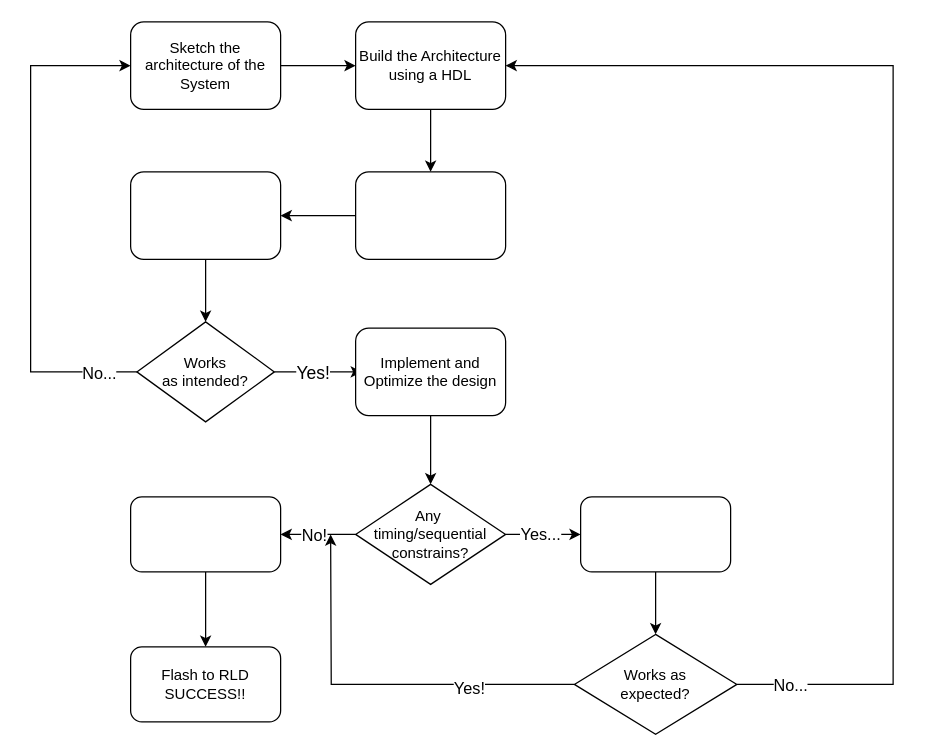
Some shapes in this 925 by 756 pixel diagram are drawn without their labels. Each missing label, with the centre of its shape:
"Sign-off and generate bitstream" goes at point 205,534.
"Simulate the behaviour of your design" goes at point 205,215.
"Simulate the implemented design using timing simulation" goes at point 655,534.
"Synthesize your design to build a gate-level netlist" goes at point 430,215.
